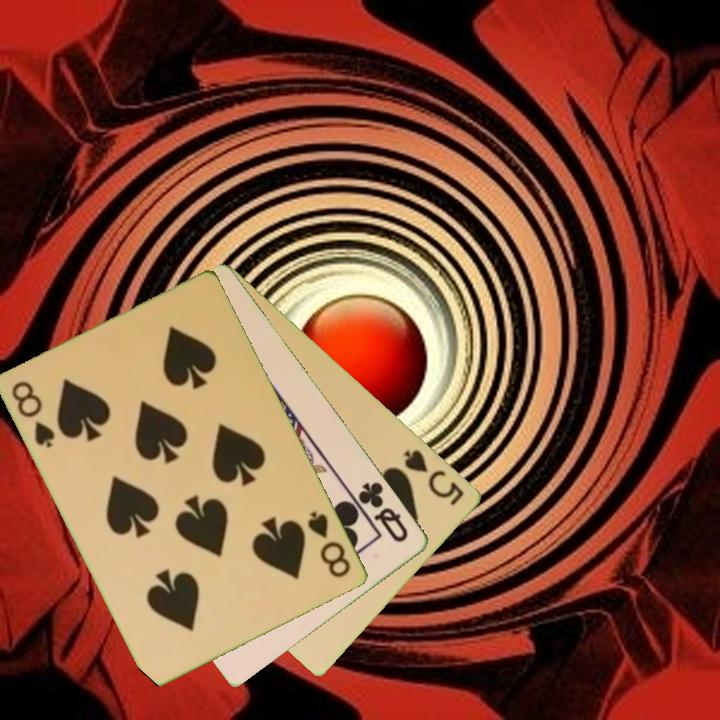5s: (401, 445, 468, 509)
8s: (8, 377, 59, 452), (304, 507, 354, 581)
Qc: (355, 478, 412, 546)
